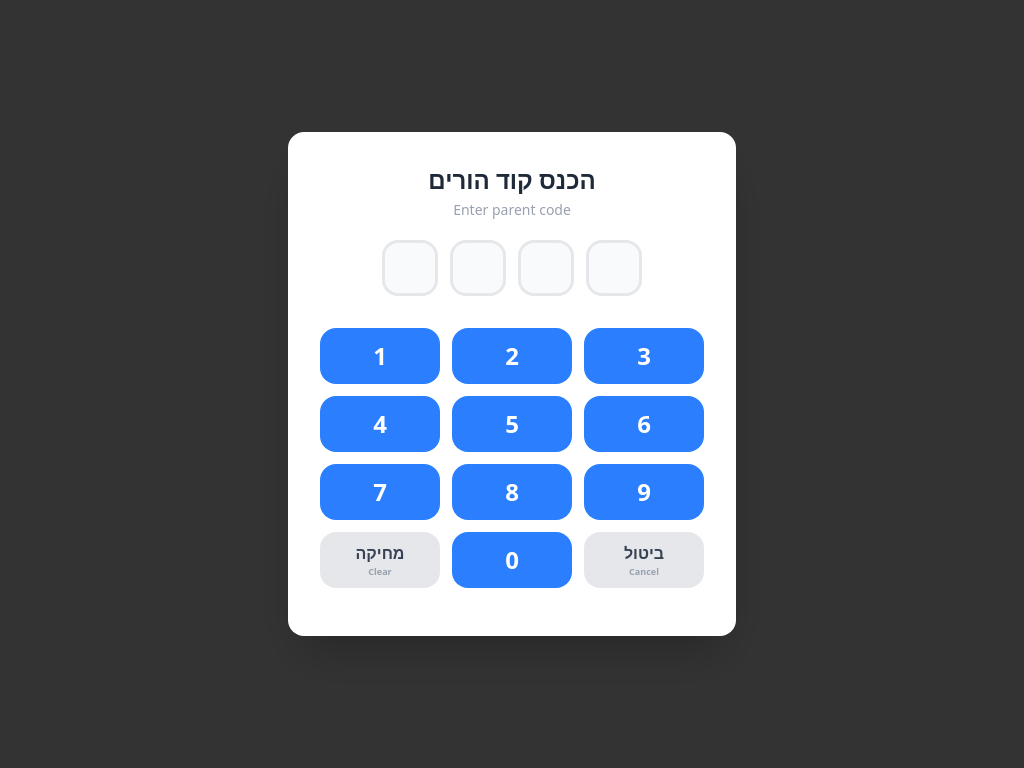
Scenario: PinModal › clears input when מחיקה is clicked
The image size is (1024, 768).
Click the button "1" at (380, 356), box [320,328,440,384]
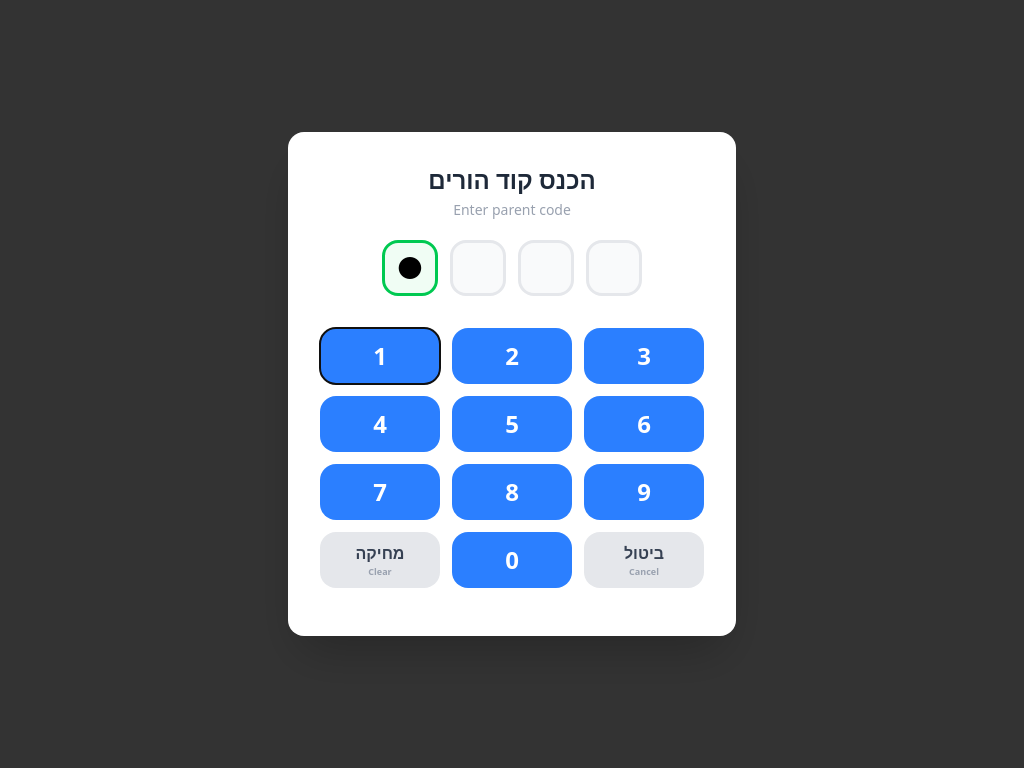
Expected: the text "●" is shown once, [382,240,438,296]
Click the text "מחיקה" at (380, 553), box [356,542,404,564]
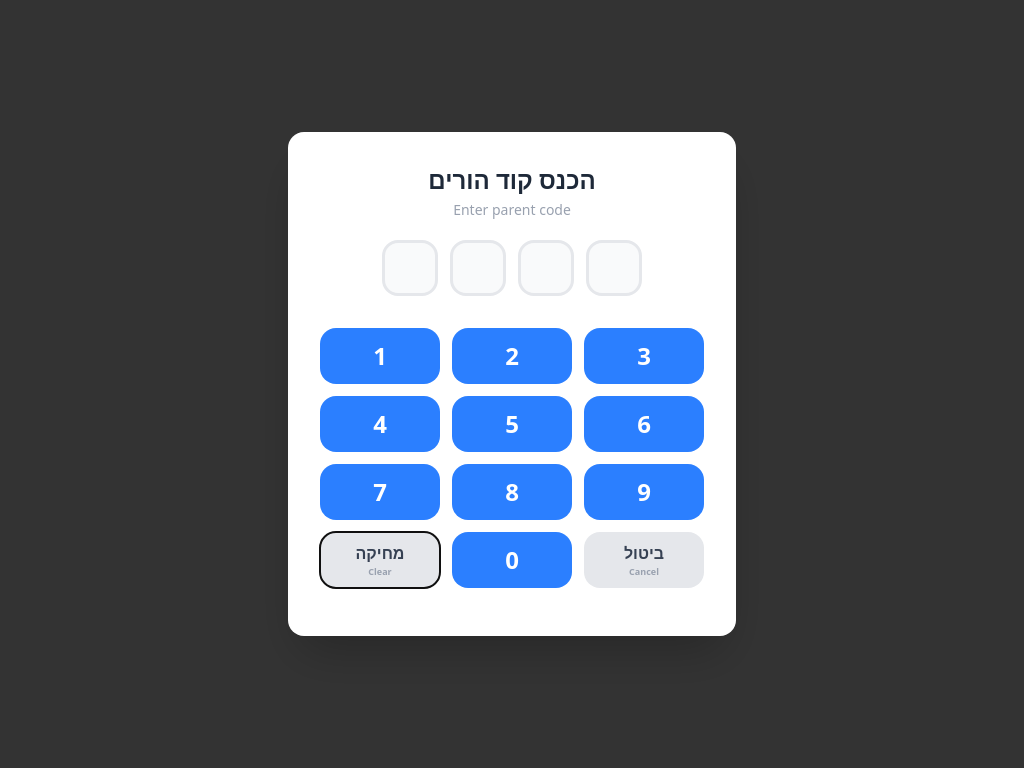
Expected: the text "●" is gone
